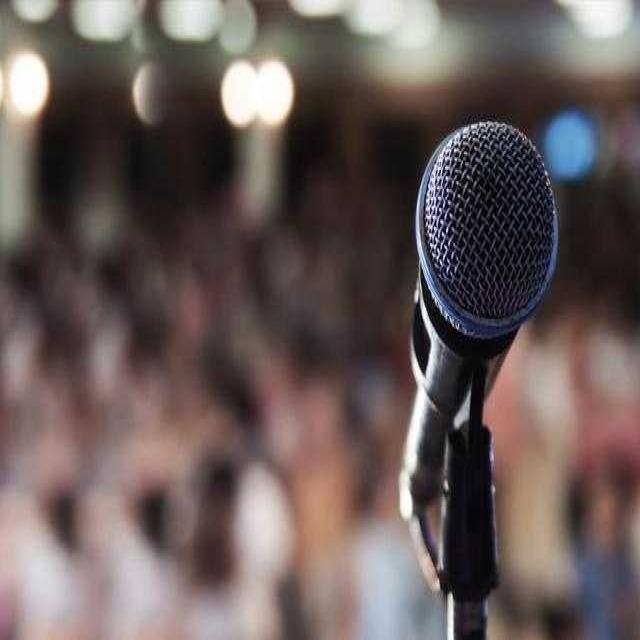microphone: (403, 118, 558, 633)
